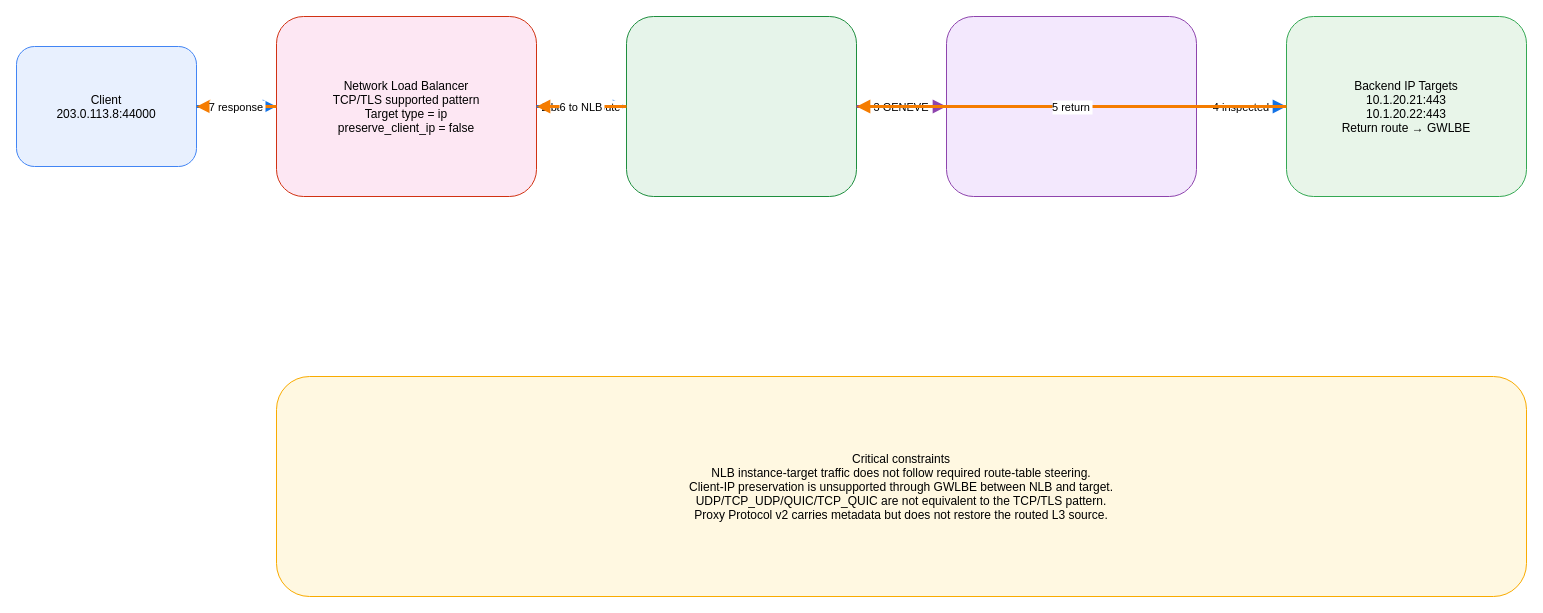
This 1543x613 diagram has some shape labels left out. The shapes that lost their labels are listed below. From the top down, each one's centre as x and y in pixels, then its label:
At [741,106]: "GWLBE — per AZ Dedicated inspection subnet More-specific route target".
At [1071,106]: "GWLB + NGFW GENEVE UDP/6081 Firewall sees NLB node source IP".
